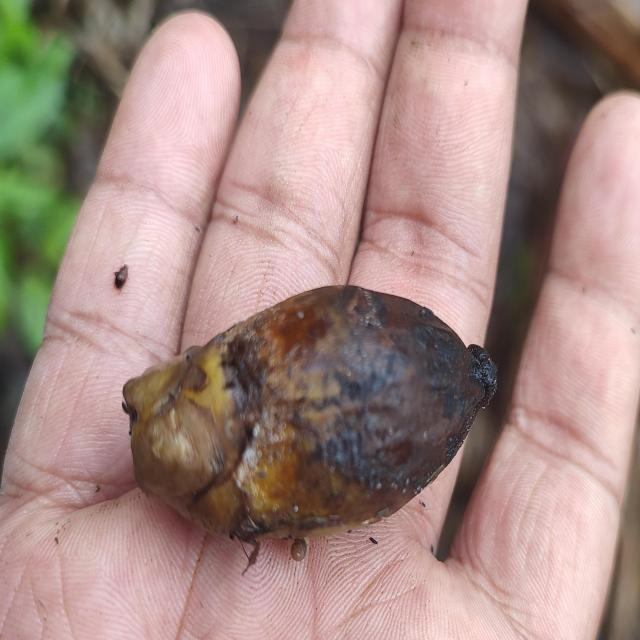damaged: (121, 286, 498, 548)
